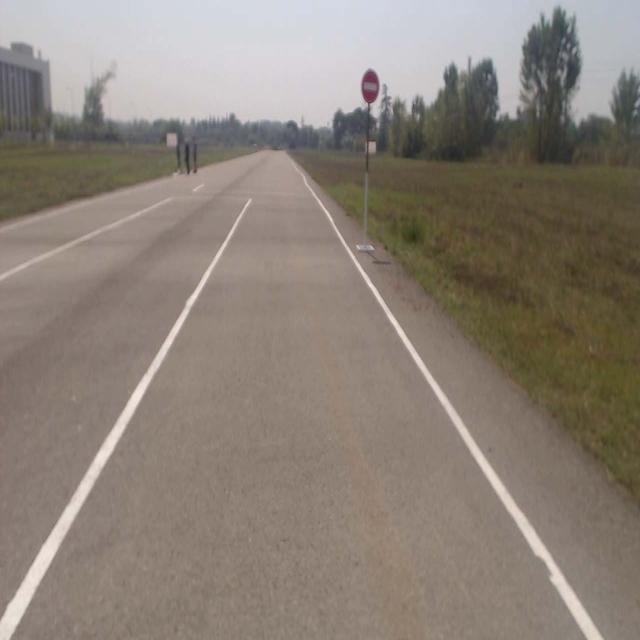girisyok: (362, 69, 379, 103)
